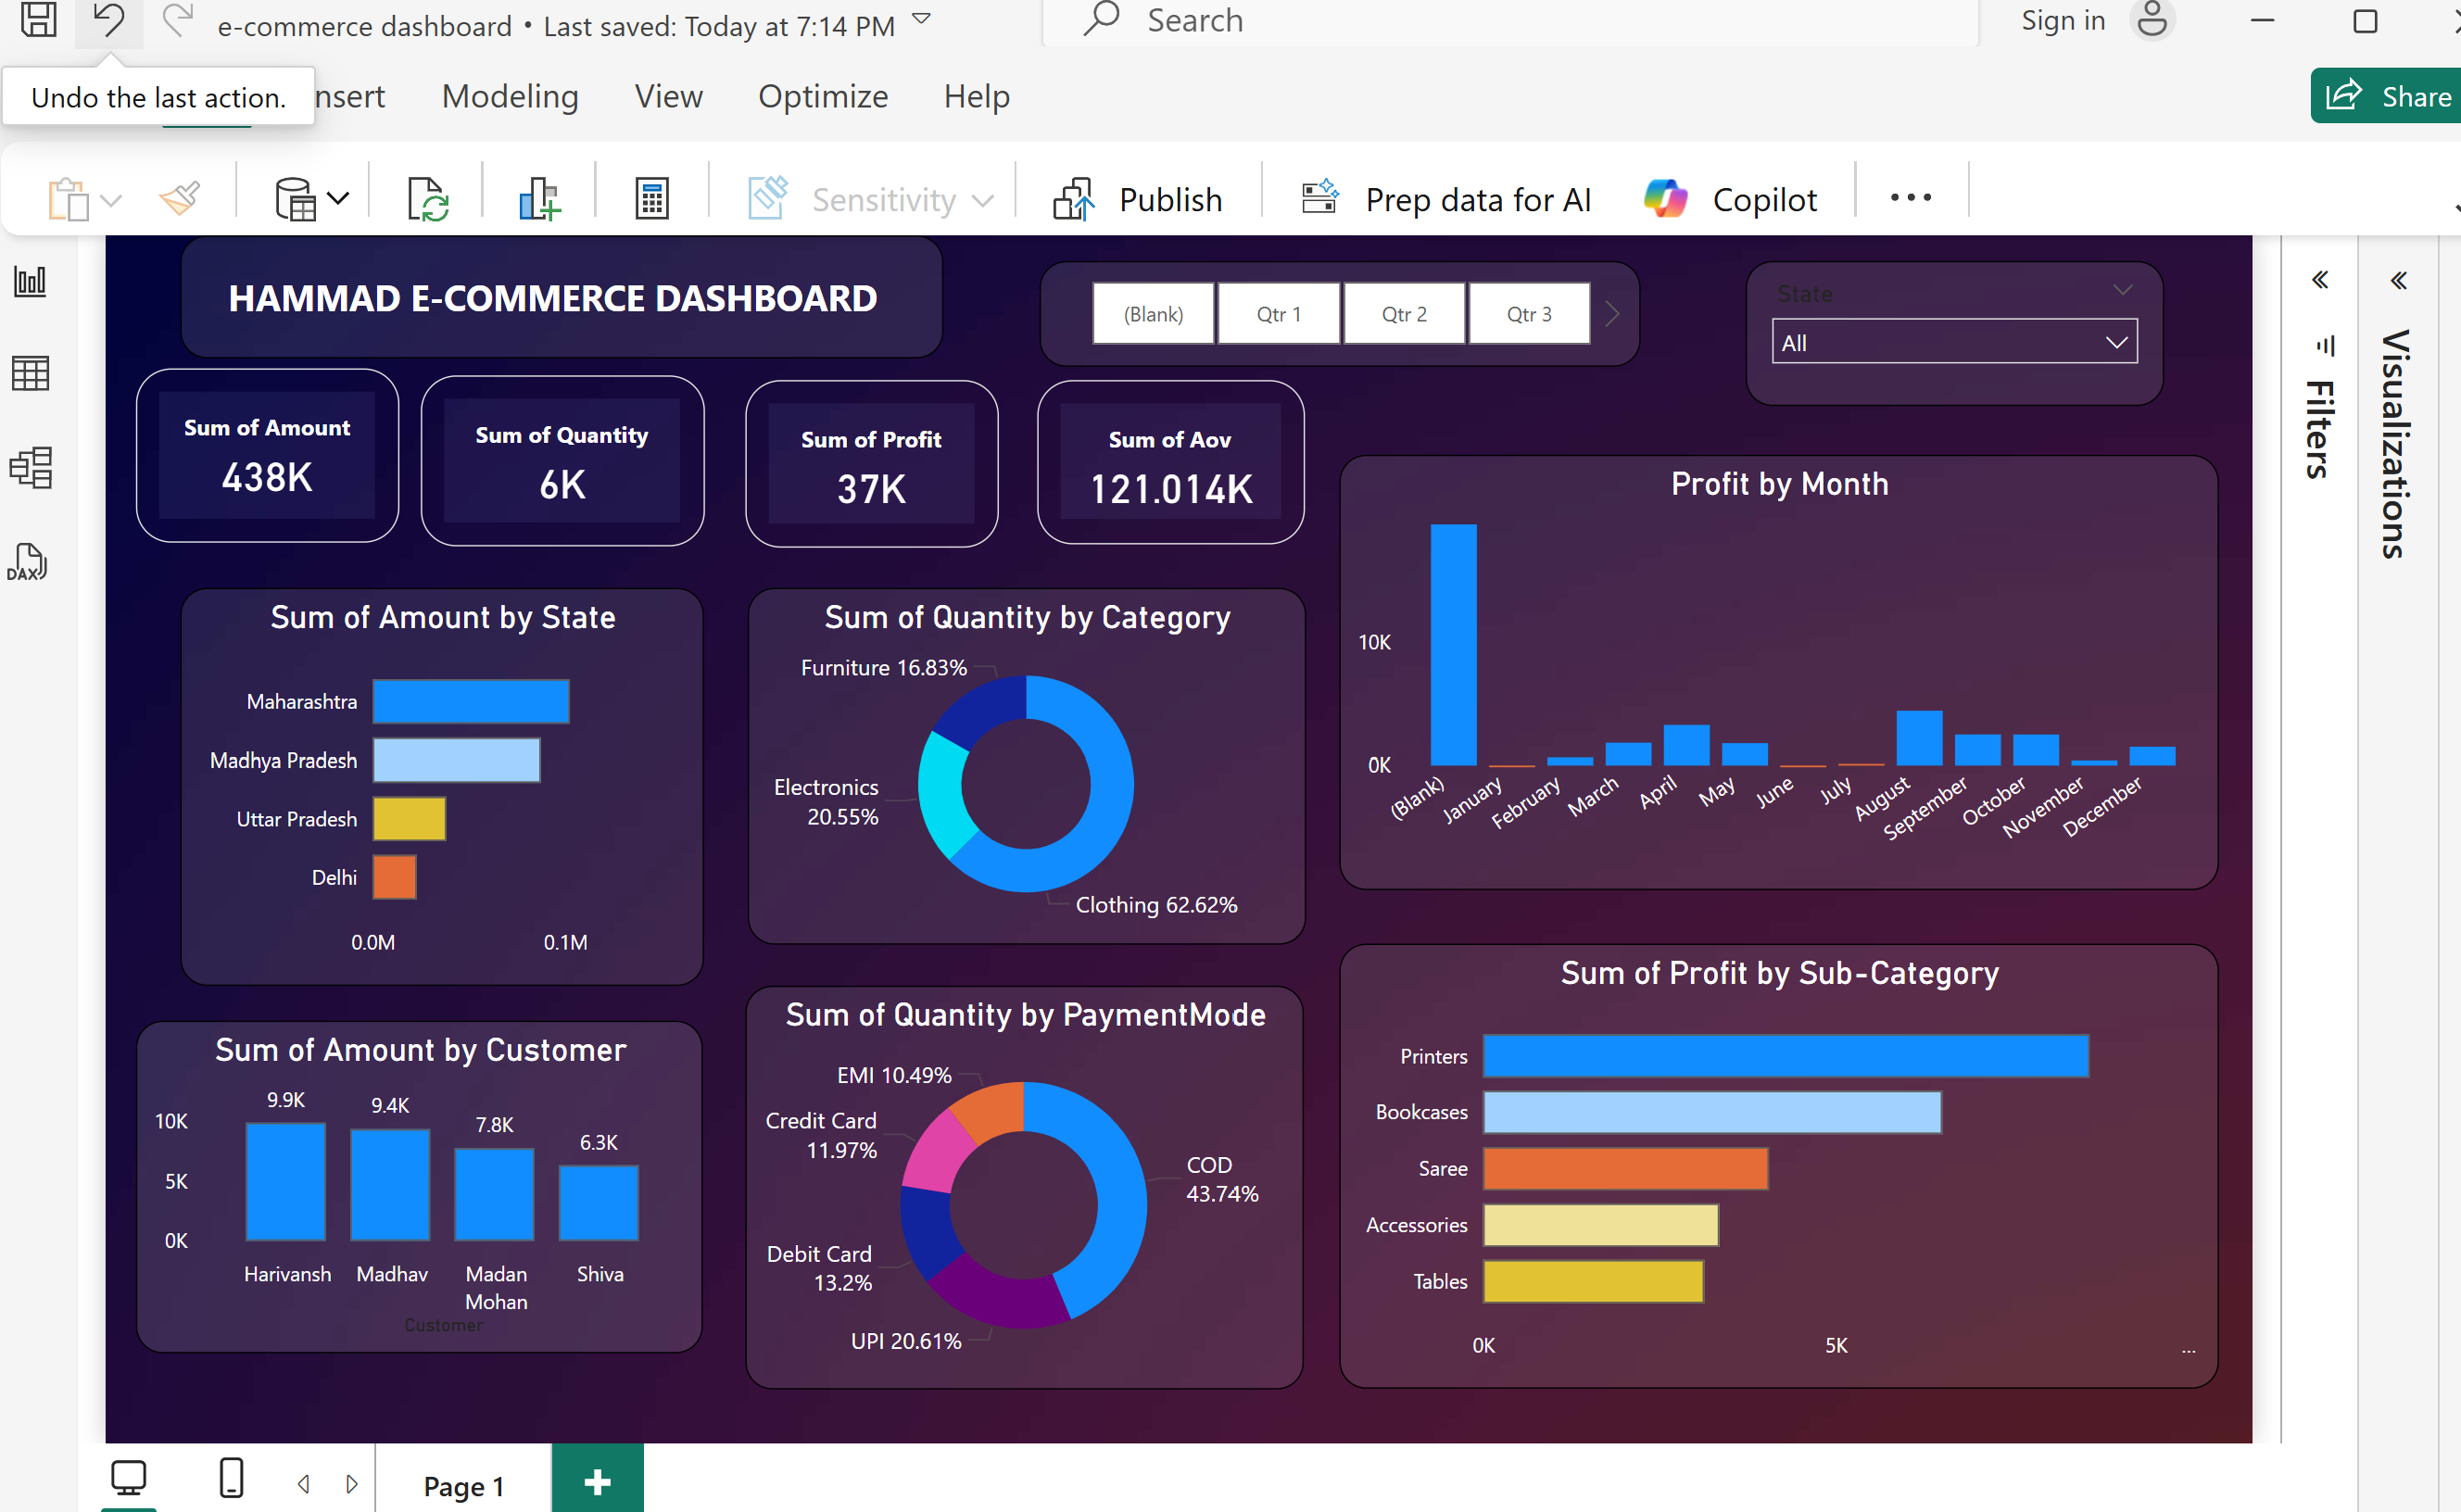

This screenshot's page, from the dashboard's own definition file:
{"tool":"powerbi","page":{"name":"Page 1","canvas":[1280,720],"ordinal":0},"visuals":[{"type":"textbox","box":[44.9,0,455.1,73.5],"z":0},{"type":"clusteredColumnChart","title":" Profit by Month","fields":{"Category":["Order.OrderDate.Variation.Date Hierarchy.Month"],"Y":["power2.Profit"]},"box":[734.7,130.6,524.5,259.2],"z":1000},{"type":"barChart","fields":{"Category":["power2.Sub-Category"],"Y":["power2.Profit"]},"box":[734.7,422.4,524.5,265.3],"z":2000},{"type":"donutChart","fields":{"Category":["power2.Category"],"Y":["power2.Quantity"]},"box":[383.7,210.2,332.7,212.2],"z":3000},{"type":"donutChart","fields":{"Y":["power2.Quantity"],"Category":["power2.PaymentMode"]},"box":[381.6,446.9,332.7,240.8],"z":4000},{"type":"cardVisual","fields":{"Data":["power2.Amount"]},"box":[18.4,79.6,157.1,104.1],"z":5000},{"type":"cardVisual","fields":{"Data":["power2.Quantity"]},"box":[187.8,83.7,169.4,102],"z":6000},{"type":"cardVisual","fields":{"Data":["power2.Profit"]},"box":[381.6,85.7,151,100],"z":7000},{"type":"cardVisual","fields":{"Data":["power2.Aov"]},"box":[555.1,85.7,159.2,98],"z":8000},{"type":"barChart","fields":{"Category":["Order.State"],"Y":["power2.Amount"]},"box":[44.9,210.2,312.2,236.7],"z":9000},{"type":"columnChart","fields":{"Category":["Order.Customer"],"Y":["power2.Amount"]},"box":[17.7,468,338.2,198.6],"z":10000},{"type":"slicer","fields":{"Values":["Order.OrderDate.Variation.Date Hierarchy.Quarter"]},"box":[556.5,15.7,357.9,62.9],"z":11000},{"type":"slicer","fields":{"Values":["Order.State"]},"box":[977.3,15.7,249.7,86.5],"z":12000}]}

Visuals, with their boxes on the page's 1280x720 design canvas (x1, y1, x2, y2). These are canvas units, not pixel positions in the 2461x1512 screenshot, which may show the page scaled, cropped or inside an application window:
textbox: (45,0,500,74)
" Profit by Month" clusteredColumnChart: (735,131,1259,390)
barChart - power2.Sub-Category x power2.Profit: (735,422,1259,688)
donutChart - power2.Category x power2.Quantity: (384,210,716,422)
donutChart - power2.Quantity x power2.PaymentMode: (382,447,714,688)
cardVisual - power2.Amount: (18,80,176,184)
cardVisual - power2.Quantity: (188,84,357,186)
cardVisual - power2.Profit: (382,86,533,186)
cardVisual - power2.Aov: (555,86,714,184)
barChart - Order.State x power2.Amount: (45,210,357,447)
columnChart - Order.Customer x power2.Amount: (18,468,356,667)
slicer - Order.OrderDate.Variation.Date Hierarchy.Quarter: (556,16,914,79)
slicer - Order.State: (977,16,1227,102)
